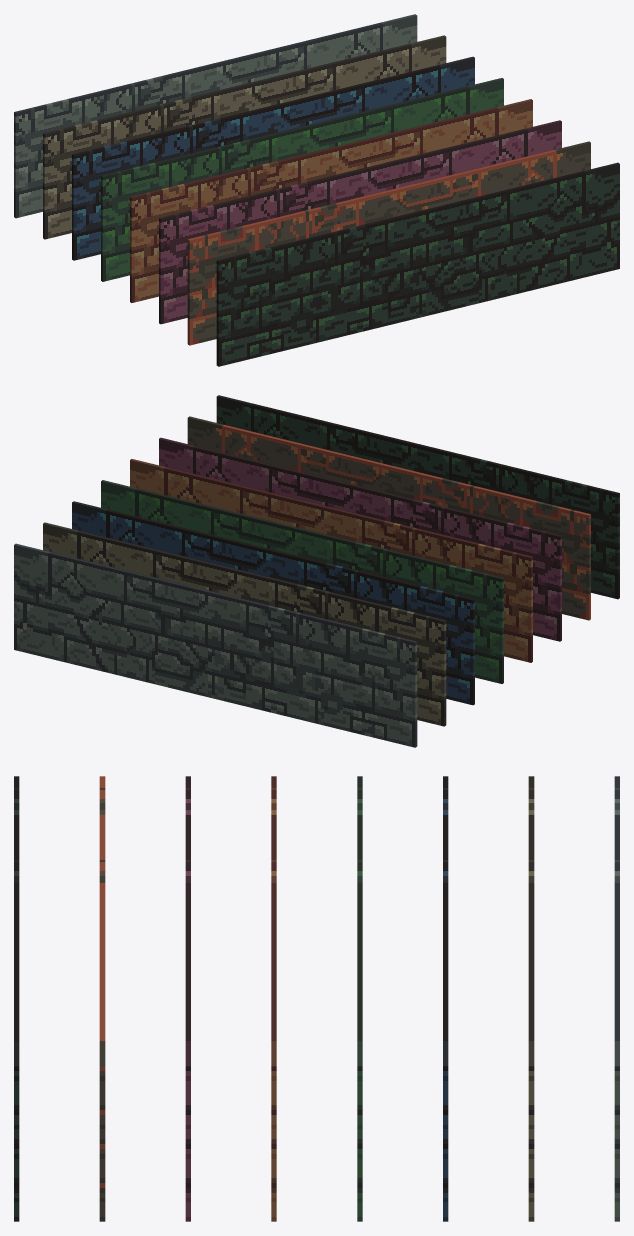
Rendered from Wall Tile Set.gltf.
3 views of the same model, one above another, from view 1: azimuth 30°, elevation 25°; view 2: azimuth 150°, elevation 25°; view 3: azimuth 270°, elevation 25° (orthographic). The views are drawn at different scales.
Visible parts, largest first — view 1: a (×8), b (×8), d (×8), c (×8); view 2: a (×8), b (×8), d (×8), c (×8); view 3: d (×8).
Part boxes in pixels (box(x1,y1,x2,y2)): a (×8): box(14, 87, 318, 366); b (×8): box(114, 63, 419, 342); d (×8): box(315, 14, 619, 293); c (×8): box(215, 38, 519, 317); a (×8): box(315, 468, 619, 747); b (×8): box(214, 444, 519, 723); d (×8): box(14, 395, 318, 674); c (×8): box(114, 419, 418, 698); d (×8): box(14, 993, 619, 1221).
Bounding box in the file's own units: 4 × 1 × 3.53.
Materials: 1 (1 with a texture image).
